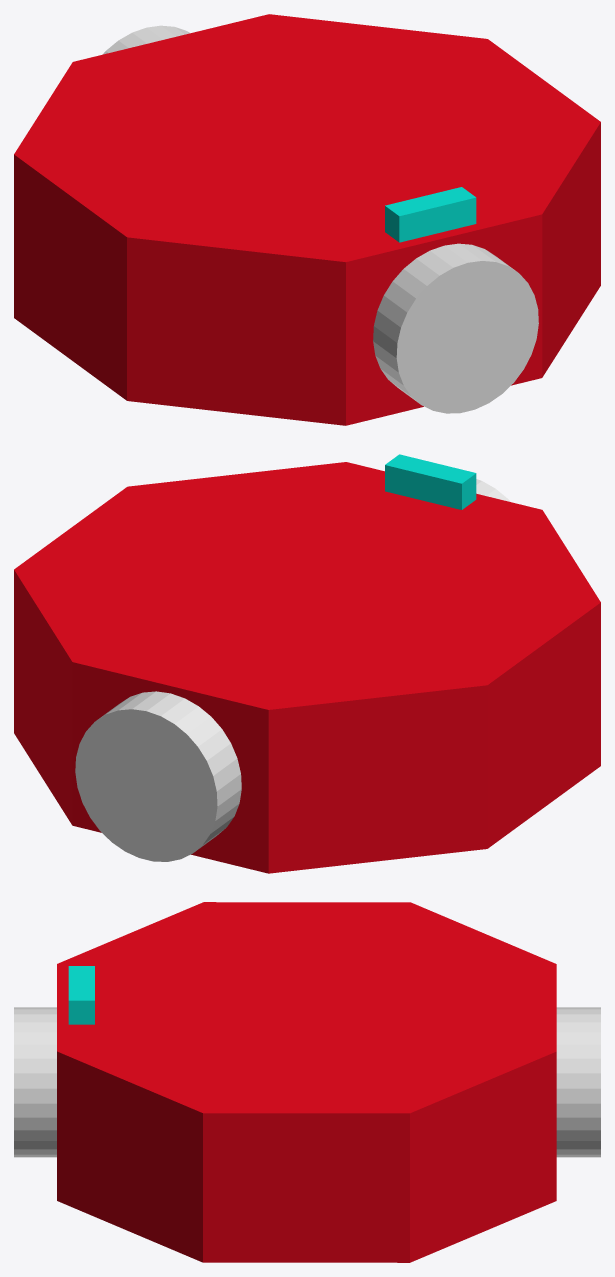
The picture shows the model from 3 angles, top to bottom: view 1: azimuth 30°, elevation 25°; view 2: azimuth 150°, elevation 25°; view 3: azimuth 270°, elevation 25°; orthographic projection. The views are drawn at different scales.
Parts seen in each view (by area): view 1: Cube; view 2: Cube; view 3: Cube.
Boxes of the visible parts, x1,y1,x2,y2 form: Cube: (14, 14, 600, 425); Cube: (14, 454, 600, 873); Cube: (14, 902, 600, 1262).
Bounding box in the file's own units: 1.85 × 2.17 × 0.7097.
